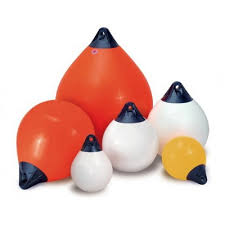buoy: (57, 46, 153, 150), (17, 103, 95, 181)
